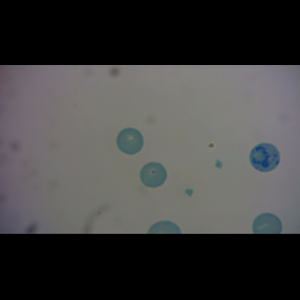aggregate reticulocyte: (248, 142, 281, 173)
erythrocyte: (116, 127, 145, 156), (139, 161, 168, 189)
